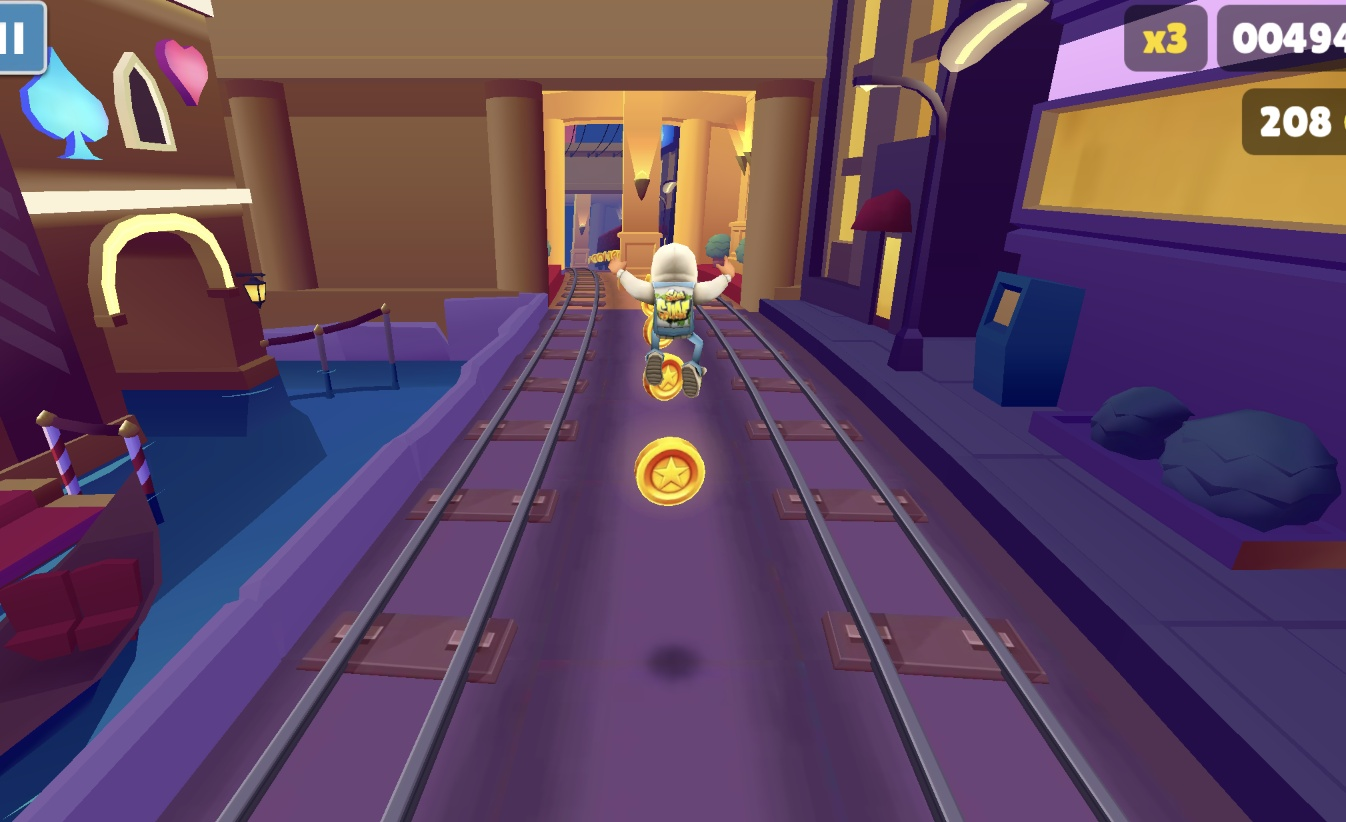pillar: (614, 90, 664, 292)
